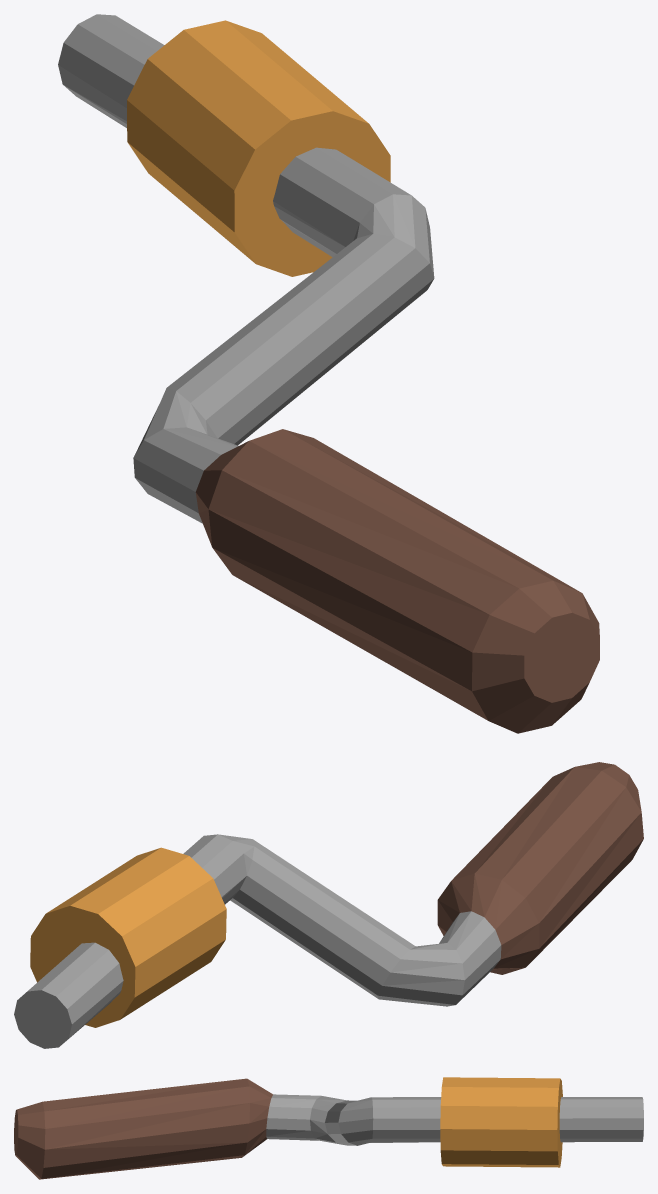
Rendered from gramarm 1.fbx.
The picture shows the model from 3 angles, top to bottom: view 1: azimuth 30°, elevation 25°; view 2: azimuth 150°, elevation 25°; view 3: azimuth 270°, elevation 25°; orthographic projection. The views are drawn at different scales.
Parts seen in each view (by area): view 1: group225046476.001; view 2: group225046476.001; view 3: group225046476.001.
Part boxes in pixels (x1,y1,x2,y2): group225046476.001: [58, 14, 599, 733]; group225046476.001: [14, 762, 643, 1048]; group225046476.001: [14, 1077, 643, 1179].
Bounding box in the file's own units: 12.51 × 8.49 × 34.89.
